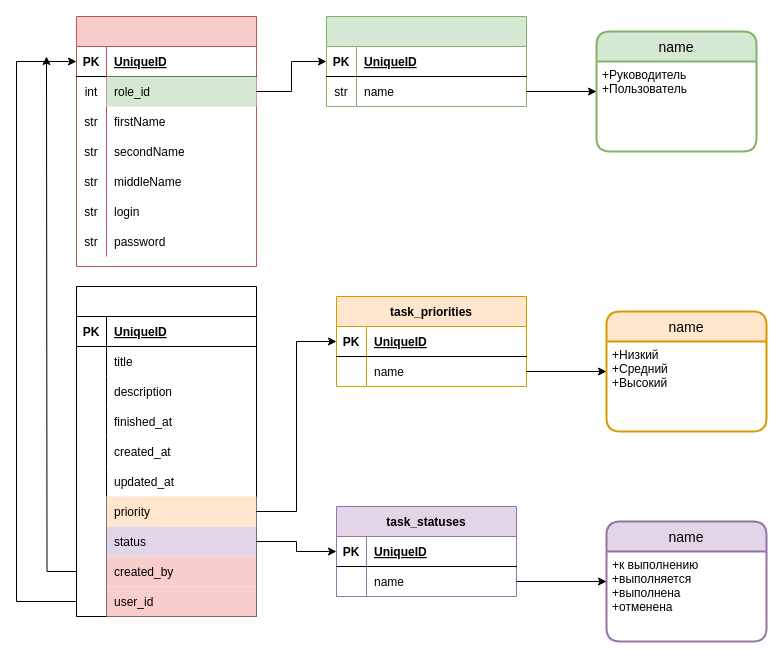
The diagram is 783 pixels wide and 658 high, and some of its shapes have lost their labels. Here are the shapes that lost their labels. From the top down, the box of each, then its label:
(326, 16, 526, 106): user_roles
(76, 16, 256, 266): users
(76, 286, 256, 616): tasks
